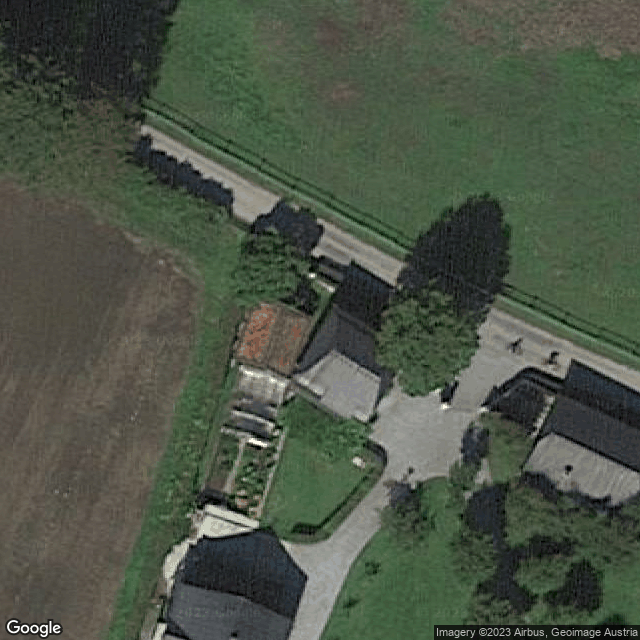hip: (534, 412, 554, 443)
ridge: (554, 433, 640, 473), (333, 351, 381, 380), (265, 307, 284, 366), (232, 599, 243, 640)
roof: (521, 394, 640, 528), (293, 304, 404, 424), (161, 580, 292, 640), (232, 296, 313, 381)
valley: (293, 353, 333, 378), (380, 352, 403, 378), (371, 378, 379, 418)
